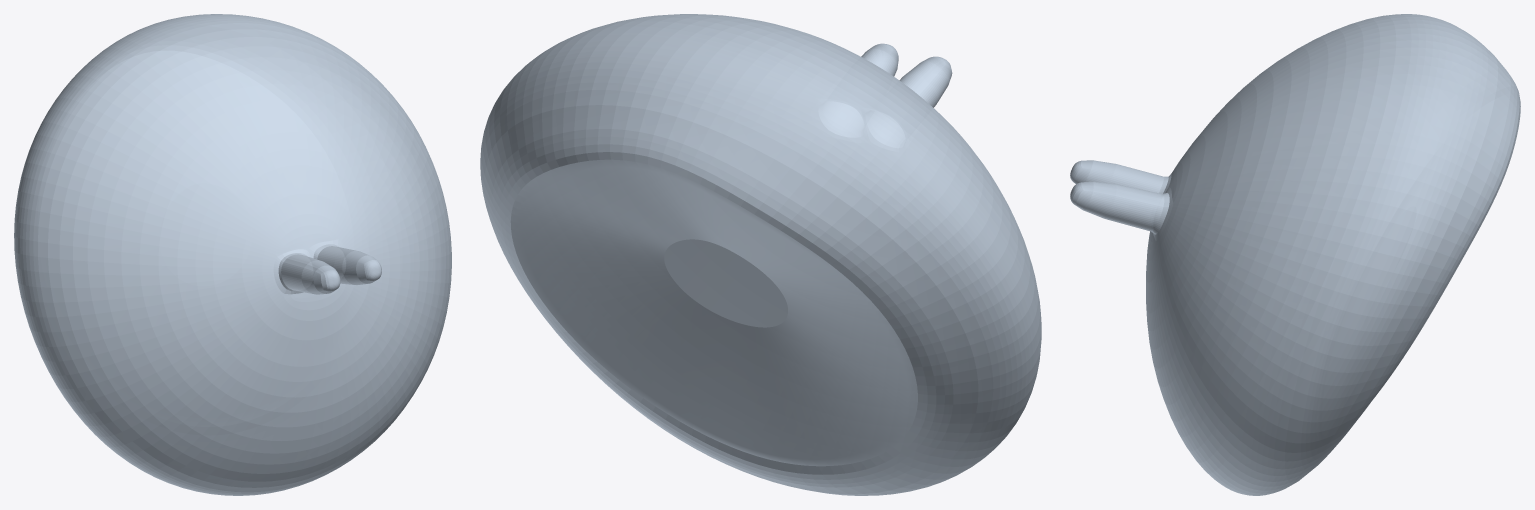
Rendered from rabUv2.fbx.
The picture shows the model from 3 angles, left to right: view 1: azimuth 30°, elevation 25°; view 2: azimuth 150°, elevation 25°; view 3: azimuth 270°, elevation 25°; orthographic projection. The views are drawn at different scales.
Parts seen in each view (by area): view 1: rab:mushroom_rabbit:head; view 2: rab:mushroom_rabbit:head; view 3: rab:mushroom_rabbit:head.
Boxes of the visible parts, bbox=[...] form: rab:mushroom_rabbit:head: bbox=[14, 14, 451, 495]; rab:mushroom_rabbit:head: bbox=[480, 14, 1041, 495]; rab:mushroom_rabbit:head: bbox=[1070, 14, 1520, 495].
Bounding box in the file's own units: 434 × 407 × 385.
